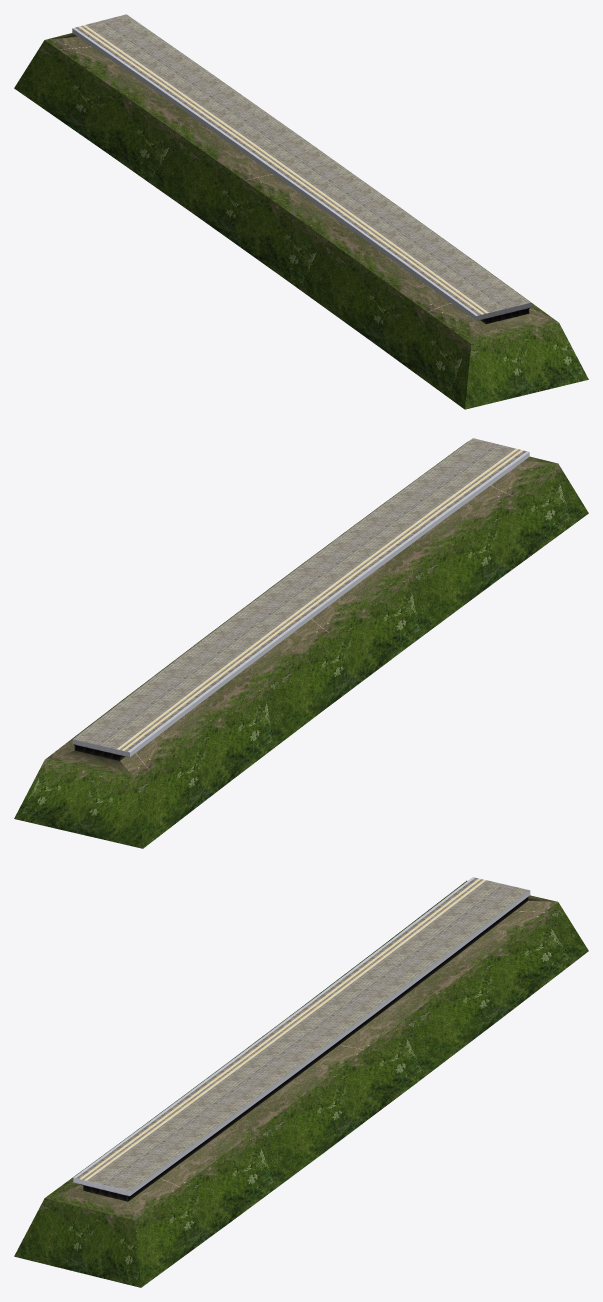
File: platform_rus_2r50.gltf
3 views of the same model, one above another, from view 1: azimuth 30°, elevation 25°; view 2: azimuth 150°, elevation 25°; view 3: azimuth 330°, elevation 25° (orthographic). The views are drawn at different scales.
Bounding box in the file's own units: 9.67 × 4.75 × 56.
1 material, 1 textured.
